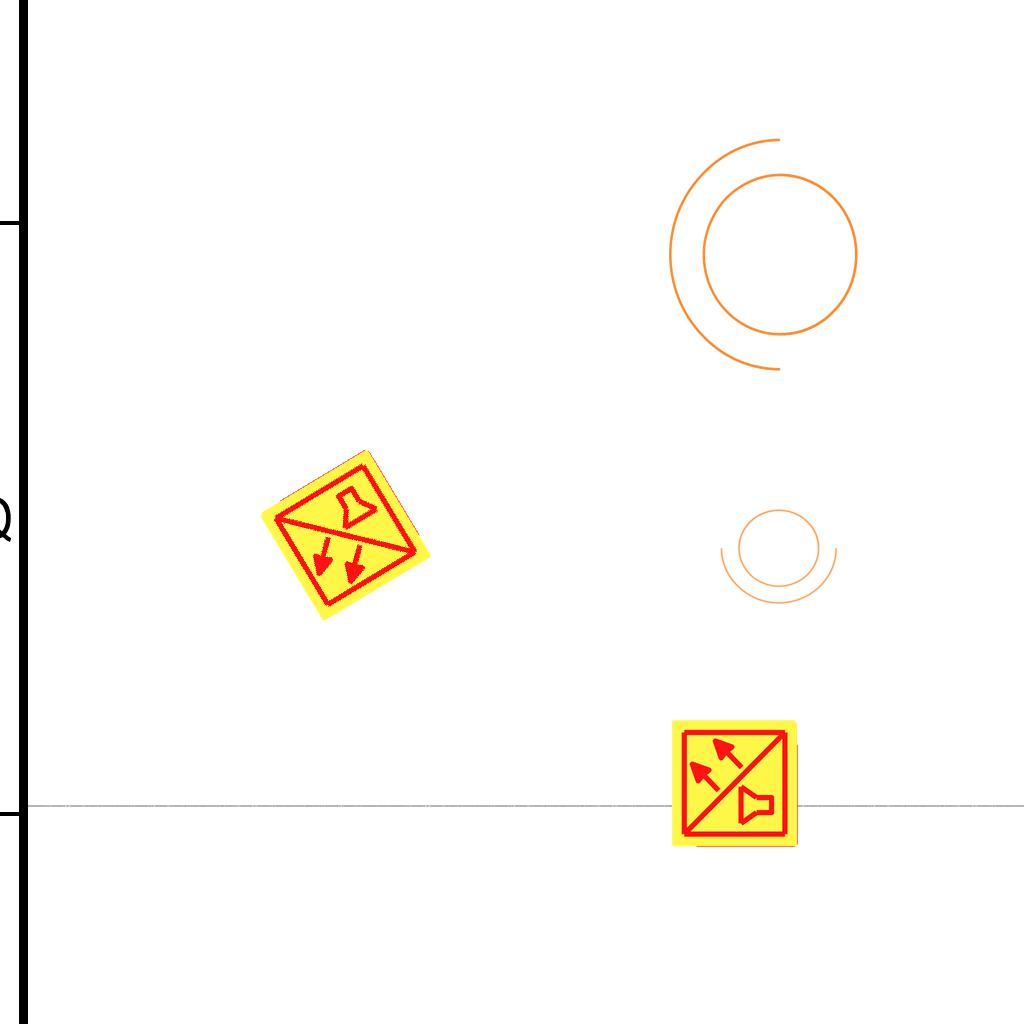OKW_Multisensormelder_(Kombination_optischer_Rauch-Kahlenmonoxid_Waerme-Melder): (254, 444, 436, 626), (669, 717, 801, 849)
Scheinwerfer_fuer_Alarmbeleuchtung: (658, 129, 883, 393), (716, 497, 848, 609)
